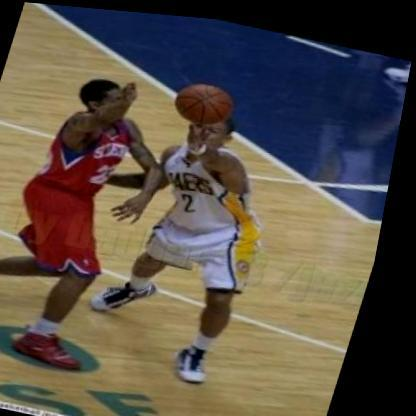basketball: (172, 73, 242, 127)
